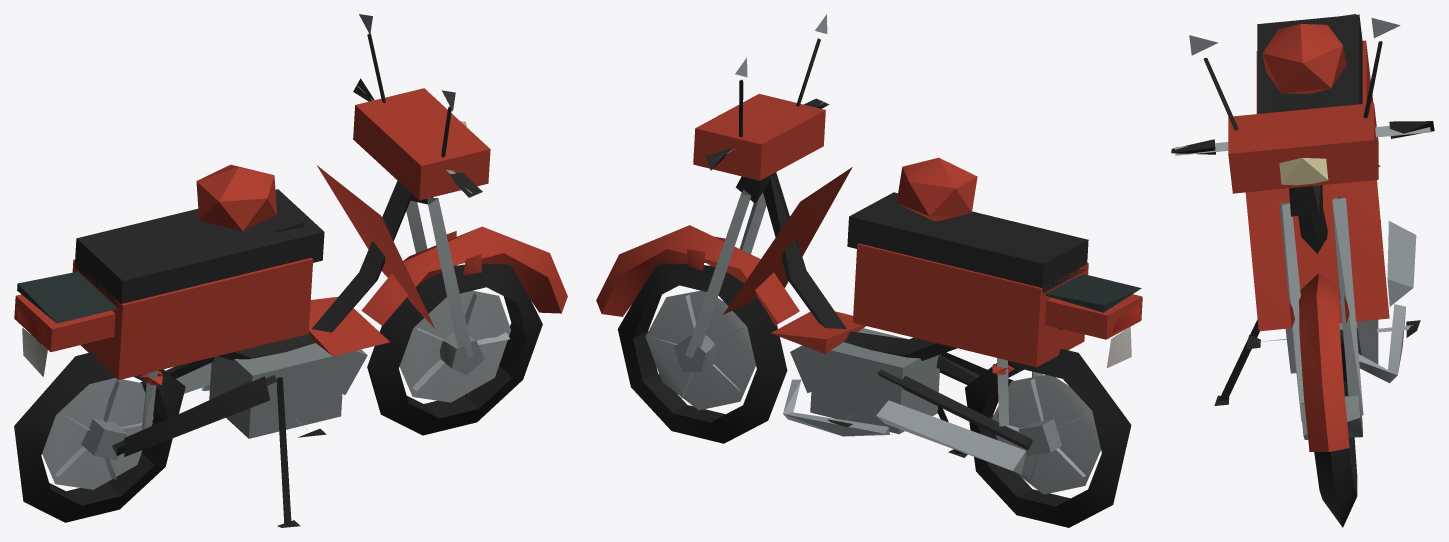
Rendered from xe_may_dau.glb.
The picture shows the model from 3 angles, left to right: view 1: azimuth 30°, elevation 25°; view 2: azimuth 150°, elevation 25°; view 3: azimuth 270°, elevation 25°; orthographic projection. The views are drawn at different scales.
Parts seen in each view (by area): view 1: xe_may_dau; view 2: xe_may_dau; view 3: xe_may_dau.
Boxes of the visible parts, box(x1,y1,x2,y2) form: xe_may_dau: box(14, 14, 567, 527); xe_may_dau: box(596, 14, 1142, 527); xe_may_dau: box(1171, 14, 1434, 527).
Bounding box in the file's own units: 1.92 × 1.4 × 0.7187.
